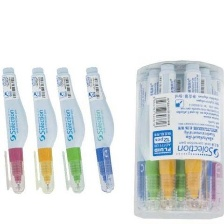correction_fluid: (83, 65, 118, 196), (53, 66, 88, 196), (0, 65, 31, 195), (28, 66, 58, 198), (136, 68, 163, 210), (180, 62, 206, 209), (194, 66, 215, 211), (158, 62, 178, 210), (135, 70, 152, 212), (171, 67, 187, 209), (208, 70, 223, 211)
plastic_box: (132, 58, 224, 221)
